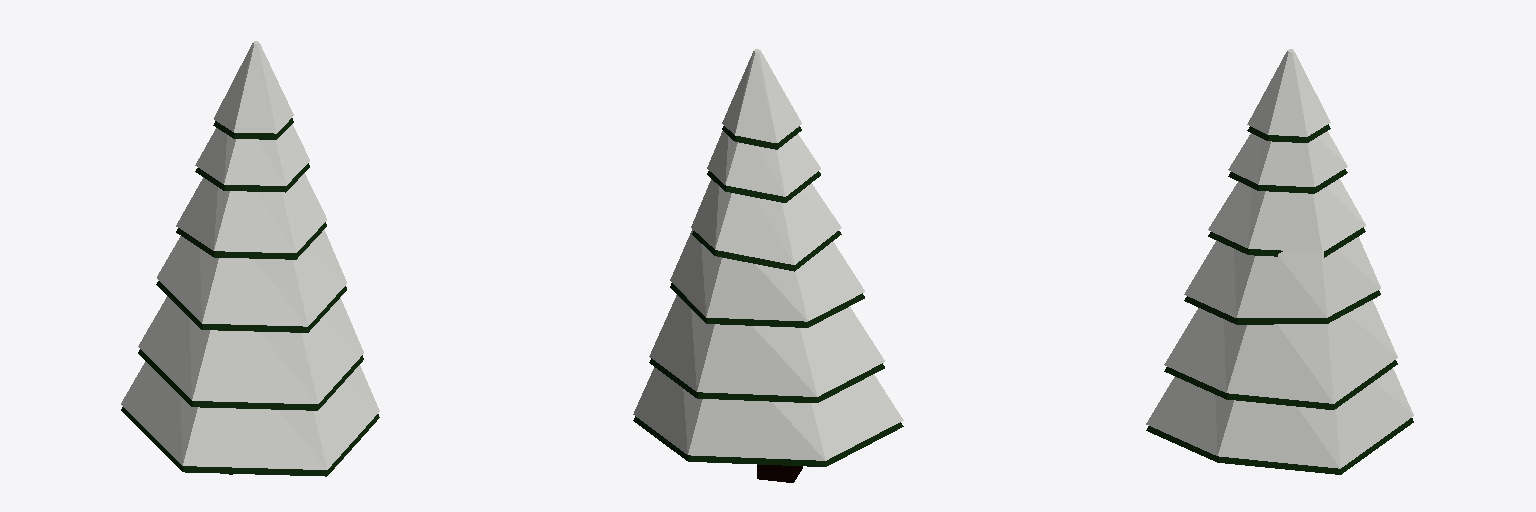
File: snow_pine.obj
3 views of the same model, side by side, from view 1: azimuth 30°, elevation 25°; view 2: azimuth 150°, elevation 25°; view 3: azimuth 270°, elevation 25° (orthographic).
Visible parts, largest first — view 1: Snow_Pine_Tree_Mesh.006; view 2: Snow_Pine_Tree_Mesh.006; view 3: Snow_Pine_Tree_Mesh.006.
Part boxes in pixels (x1,y1,x2,y2): Snow_Pine_Tree_Mesh.006: (121,41,379,476); Snow_Pine_Tree_Mesh.006: (633,49,903,482); Snow_Pine_Tree_Mesh.006: (1146,49,1413,474).
Size of the model in its own units: 119 by 226 by 132.